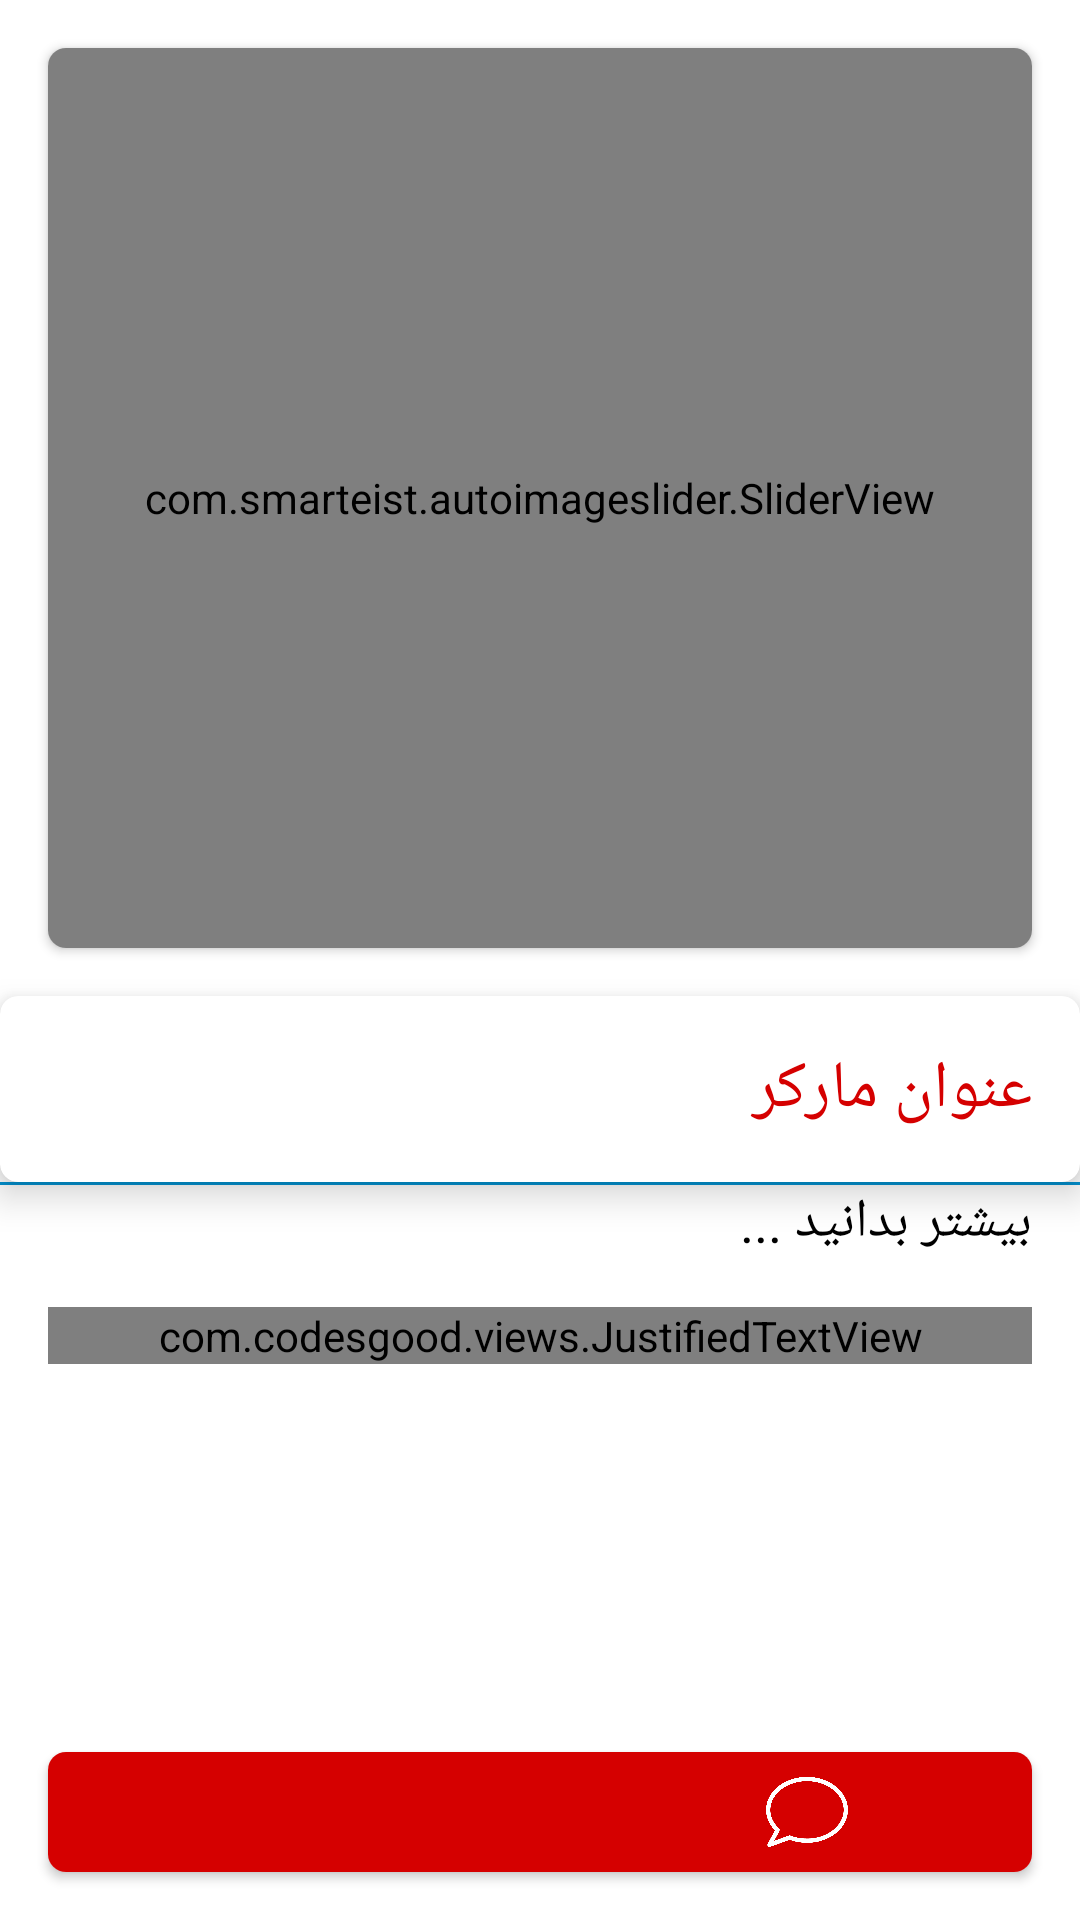

Point at icon controls on the screen. Image size 1080px×1920px, points as point (x, y).
chat: point (807, 1812)
